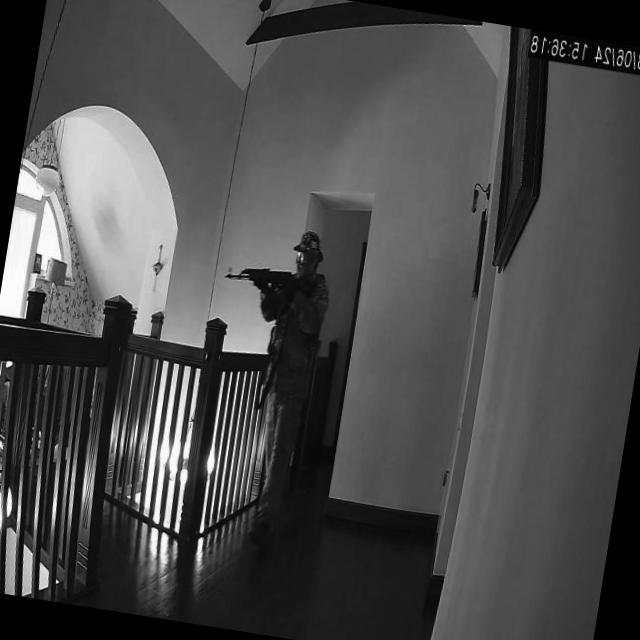gun: (223, 258, 318, 302)
person with a gun: (182, 216, 338, 557)
